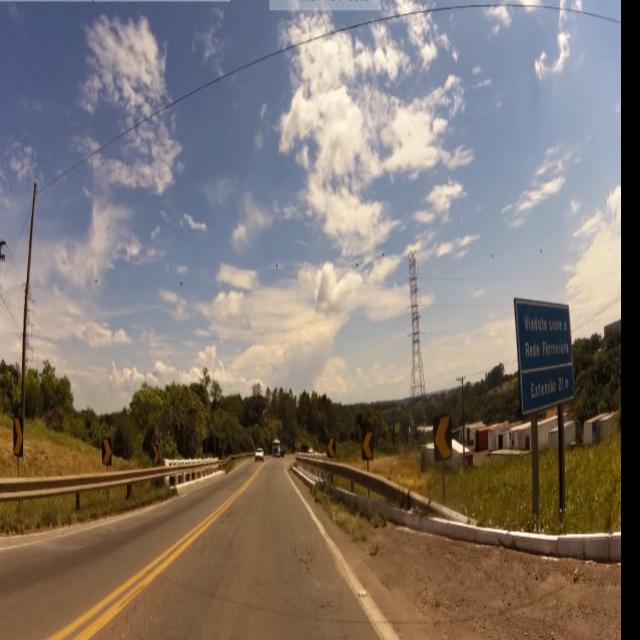LOC-6: (510, 289, 583, 410)
